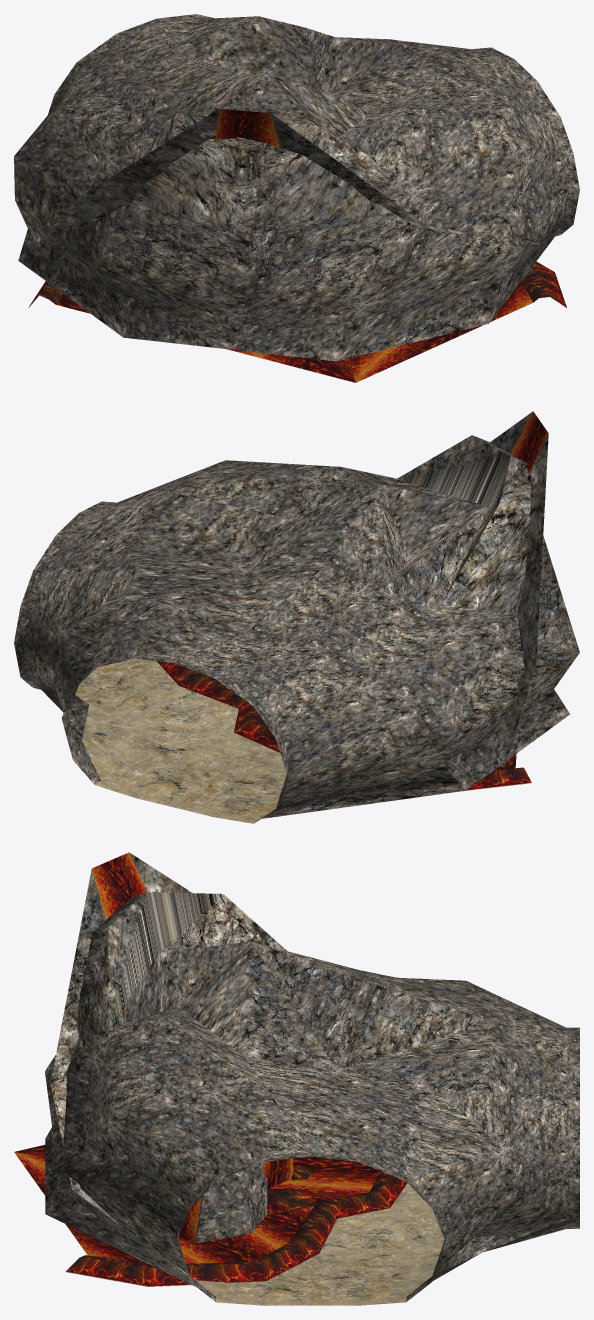
The model's file is pir_m_are_cav_elbow200_lava.fbx.
3 views of the same model, one above another, from view 1: azimuth 30°, elevation 25°; view 2: azimuth 150°, elevation 25°; view 3: azimuth 270°, elevation 25° (orthographic). The views are drawn at different scales.
Visible parts, largest first — view 1: elbow200_lavaWall, rock_hill, lavaPool, lava_hot_0, pool_lip.001; view 2: elbow200_lavaWall, elbow200_lavaFloor, rock_hill, pool_lip.001, lava_hot_0; view 3: elbow200_lavaWall, elbow200_lavaFloor, rock_hill, lavaPool, pool_lip.001, lava_hot_0, lavaRock2.
Boxes of the visible parts, bbox=[...] form: elbow200_lavaWall: bbox=[14, 14, 579, 361]; rock_hill: bbox=[46, 109, 540, 286]; lavaPool: bbox=[56, 281, 532, 382]; lava_hot_0: bbox=[215, 109, 279, 147]; pool_lip.001: bbox=[29, 261, 566, 307]; elbow200_lavaWall: bbox=[14, 435, 579, 822]; elbow200_lavaFloor: bbox=[75, 658, 286, 823]; rock_hill: bbox=[490, 411, 548, 767]; pool_lip.001: bbox=[157, 661, 531, 789]; lava_hot_0: bbox=[511, 411, 548, 473]; elbow200_lavaWall: bbox=[45, 892, 579, 1301]; elbow200_lavaFloor: bbox=[195, 1183, 444, 1305]; rock_hill: bbox=[50, 852, 267, 1263]; lavaPool: bbox=[14, 1145, 381, 1263]; pool_lip.001: bbox=[66, 1171, 407, 1286]; lava_hot_0: bbox=[92, 852, 293, 1242]; lavaRock2: bbox=[267, 1189, 317, 1210].
Bounding box in the file's own units: 20770 × 10950 × 21056.
Materials: 4 (4 with a texture image).
